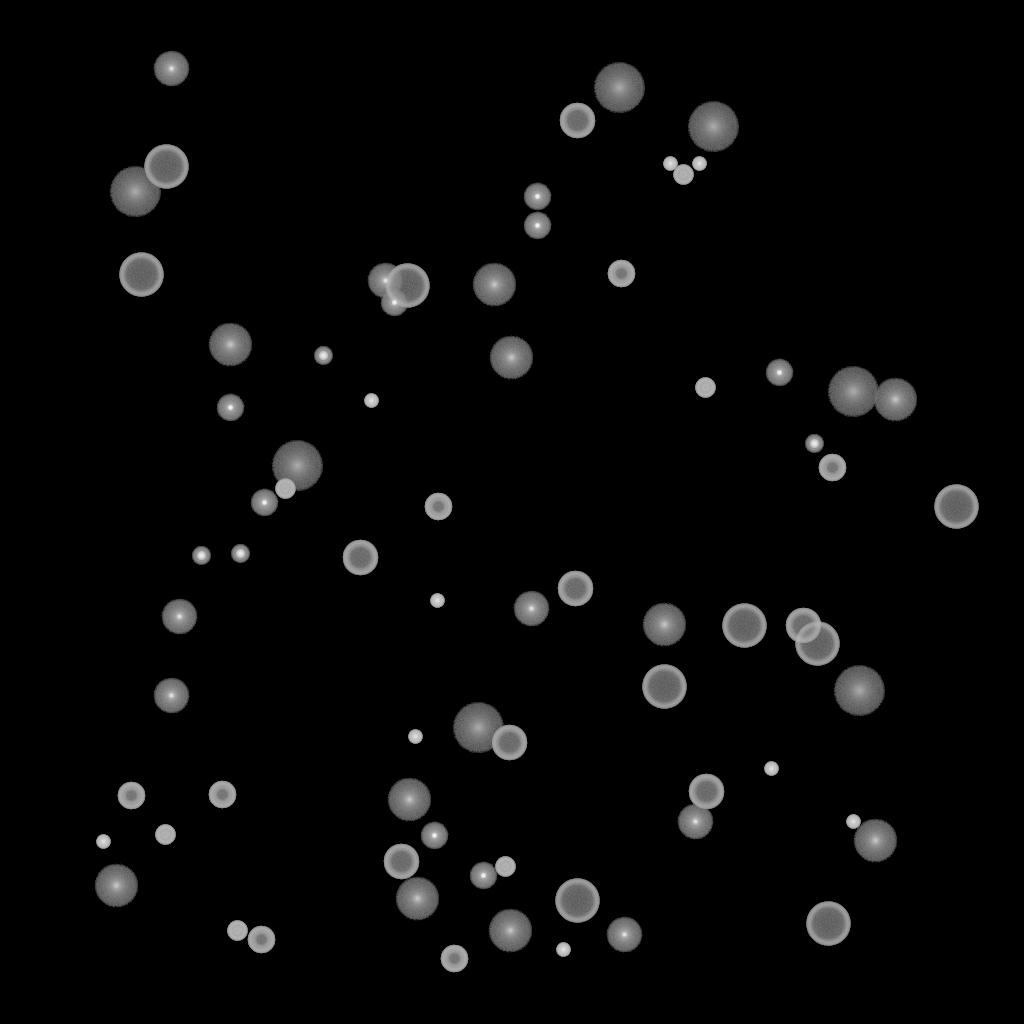depth:-10: (380, 289, 408, 317), (420, 822, 448, 850), (216, 394, 244, 422), (469, 862, 497, 890), (523, 212, 551, 240), (523, 183, 551, 211), (250, 489, 278, 517), (765, 359, 793, 387)
depth:-20: (192, 547, 210, 565), (231, 545, 249, 563), (805, 435, 823, 453), (314, 347, 332, 365)
depth:-30: (764, 762, 778, 776), (430, 594, 444, 608), (846, 815, 860, 829), (96, 835, 110, 849), (692, 157, 706, 171), (408, 730, 422, 744), (556, 943, 570, 957), (364, 394, 378, 408), (663, 157, 677, 171)
depth:-40: (155, 825, 175, 845), (495, 857, 515, 877), (695, 378, 715, 398), (227, 921, 247, 941), (275, 479, 295, 499), (673, 165, 693, 185)
depth:-50: (117, 782, 145, 810), (208, 781, 236, 809), (247, 926, 275, 954), (440, 945, 468, 973), (424, 493, 452, 521), (607, 260, 635, 288), (818, 454, 846, 482)
depth:-60: (342, 540, 378, 576), (383, 844, 419, 880), (785, 608, 821, 644), (559, 103, 595, 139), (557, 571, 593, 607), (688, 774, 724, 810), (491, 725, 527, 761)
depth:-70: (806, 902, 850, 946), (722, 604, 766, 648), (642, 665, 686, 709), (385, 264, 429, 308), (795, 622, 839, 666), (119, 253, 163, 297), (555, 879, 599, 923), (934, 485, 978, 529), (144, 145, 188, 189)
depth:0: (153, 51, 189, 87), (513, 591, 549, 627), (367, 263, 403, 299), (153, 678, 189, 714), (161, 599, 197, 635), (606, 917, 642, 953), (677, 804, 713, 840)
depth:10: (94, 864, 138, 908), (489, 336, 533, 380), (387, 778, 431, 822), (395, 877, 439, 921), (488, 909, 532, 953), (642, 603, 686, 647), (208, 323, 252, 367), (472, 263, 516, 307), (853, 819, 897, 863), (873, 378, 917, 422)
depth:20: (271, 441, 323, 491), (593, 63, 645, 113), (687, 102, 739, 152), (452, 703, 504, 753), (827, 367, 879, 417), (833, 666, 885, 716), (109, 167, 161, 217)
